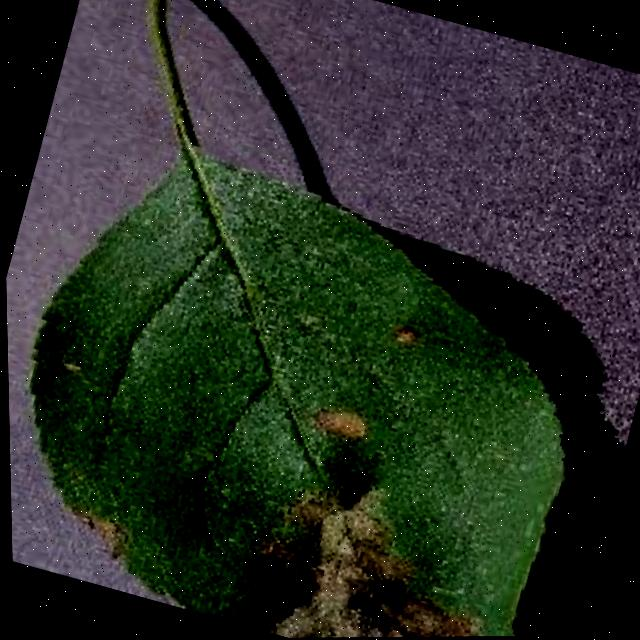black_rot: (218, 477, 534, 638), (294, 383, 396, 463), (75, 502, 151, 563), (370, 303, 431, 361)
